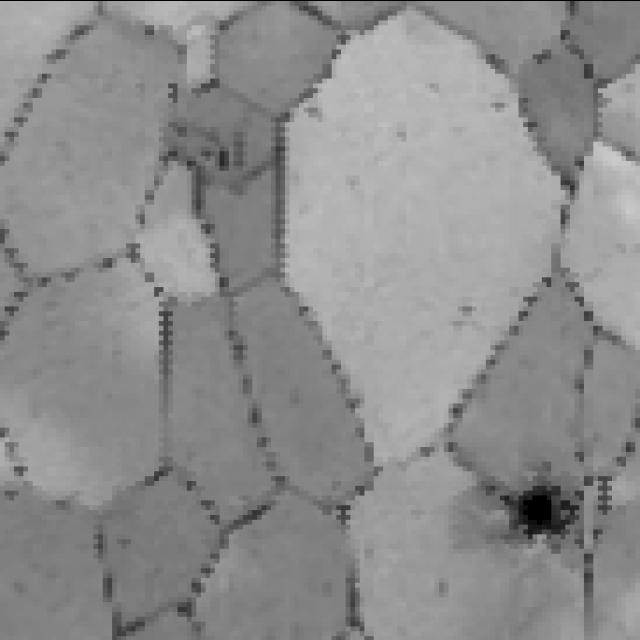good_void: (450, 466, 595, 564), (200, 125, 248, 172), (446, 300, 484, 330)
